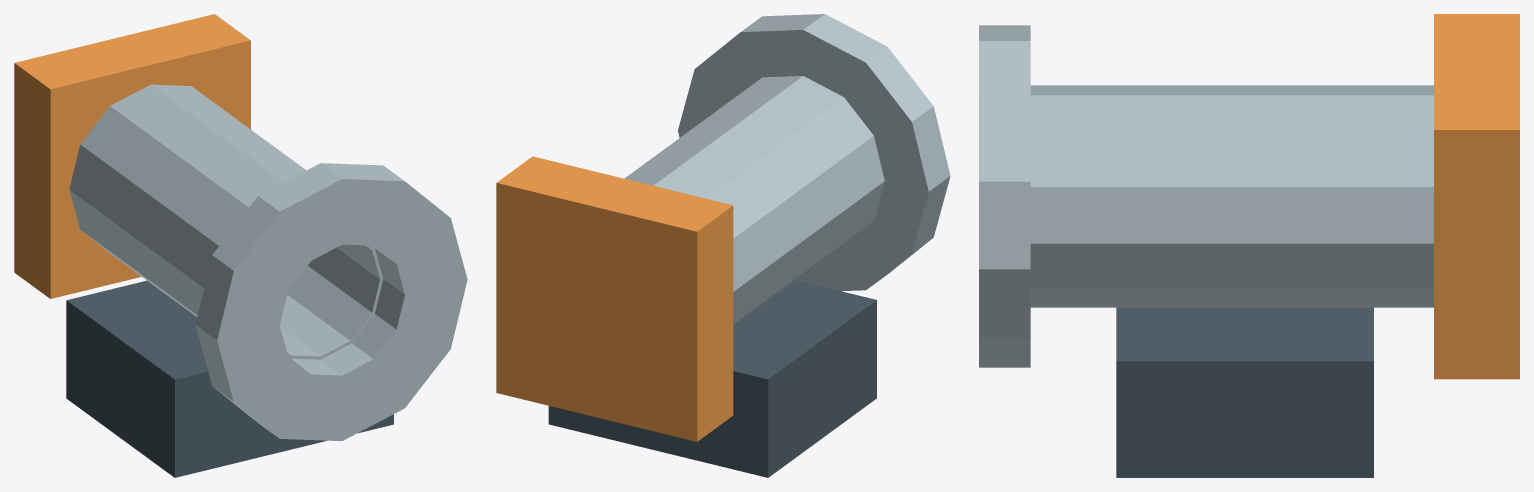
File: capped-pipe-end.glb
3 renders of one model, left to right at view 1: azimuth 30°, elevation 25°; view 2: azimuth 150°, elevation 25°; view 3: azimuth 270°, elevation 25°, orthographic. The views are drawn at different scales.
Visible parts, largest first — view 1: steel, orange, dark; view 2: steel, orange, dark; view 3: steel, dark, orange.
Part boxes in pixels (x1=…): steel: x1=69, y1=84, x2=467, y2=440; orange: x1=14, y1=14, x2=250, y2=298; dark: x1=66, y1=280, x2=393, y2=477; steel: x1=624, y1=14, x2=950, y2=325; orange: x1=496, y1=156, x2=733, y2=441; dark: x1=548, y1=280, x2=876, y2=477; steel: x1=979, y1=25, x2=1433, y2=367; dark: x1=1116, y1=307, x2=1373, y2=477; orange: x1=1434, y1=14, x2=1519, y2=379.
Size of the model in its own units: 0.4 by 0.48 by 0.63.
